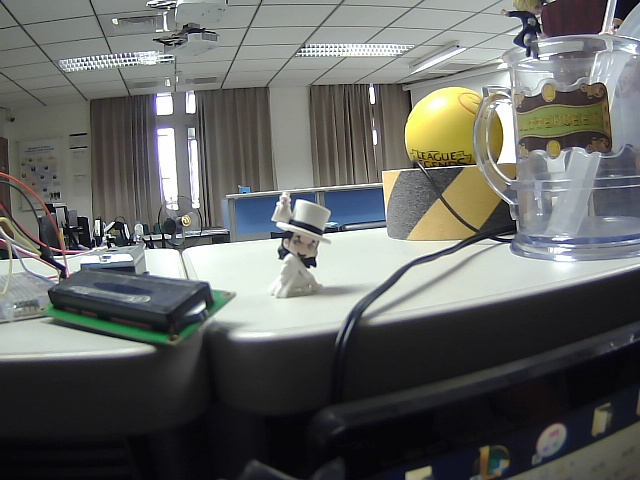lucci: (263, 189, 343, 308)
